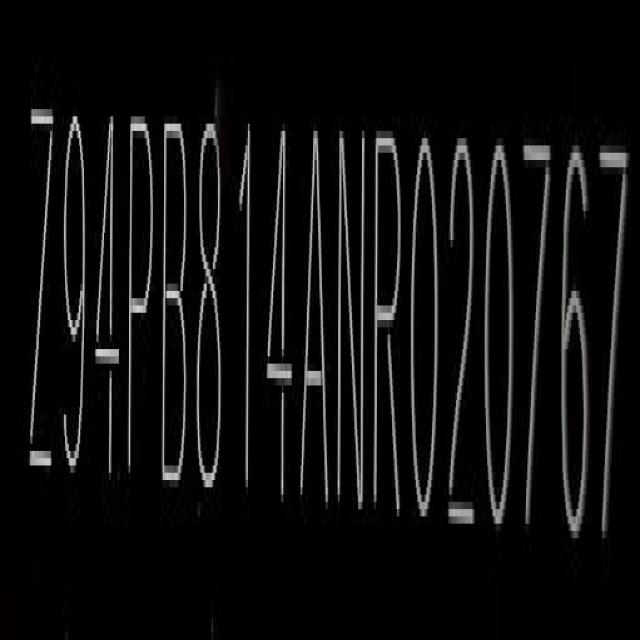0: (406, 121, 443, 550), (480, 121, 516, 539)
1: (237, 108, 256, 517)
2: (448, 132, 476, 525)
4: (264, 119, 296, 506), (93, 108, 122, 496)
6: (560, 127, 590, 544)
7: (520, 119, 555, 534), (598, 129, 632, 544)
8: (196, 105, 226, 512)
9: (58, 102, 90, 506)
A: (299, 119, 333, 517)
B: (159, 100, 192, 509)
N: (336, 126, 370, 512)
P: (126, 113, 154, 496)
R: (370, 116, 406, 520)
Z: (26, 100, 56, 501)
